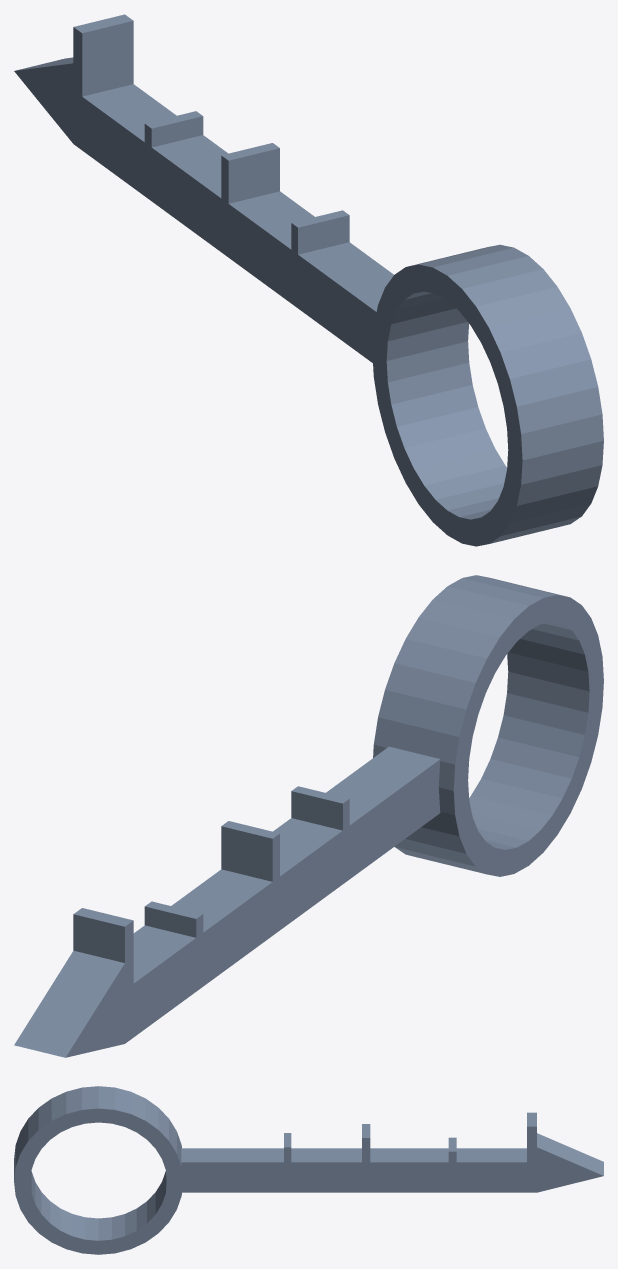
File: Key3D.fbx
The picture shows the model from 3 angles, top to bottom: view 1: azimuth 30°, elevation 25°; view 2: azimuth 150°, elevation 25°; view 3: azimuth 270°, elevation 25°; orthographic projection. The views are drawn at different scales.
Parts seen in each view (by area): view 1: Cube; view 2: Cube; view 3: Cube.
Boxes of the visible parts, x1,y1,x2,y2 form: Cube: [14, 14, 603, 546]; Cube: [14, 575, 603, 1057]; Cube: [14, 1086, 603, 1254].
Bounding box in the file's own units: 316 × 964 × 3523.
